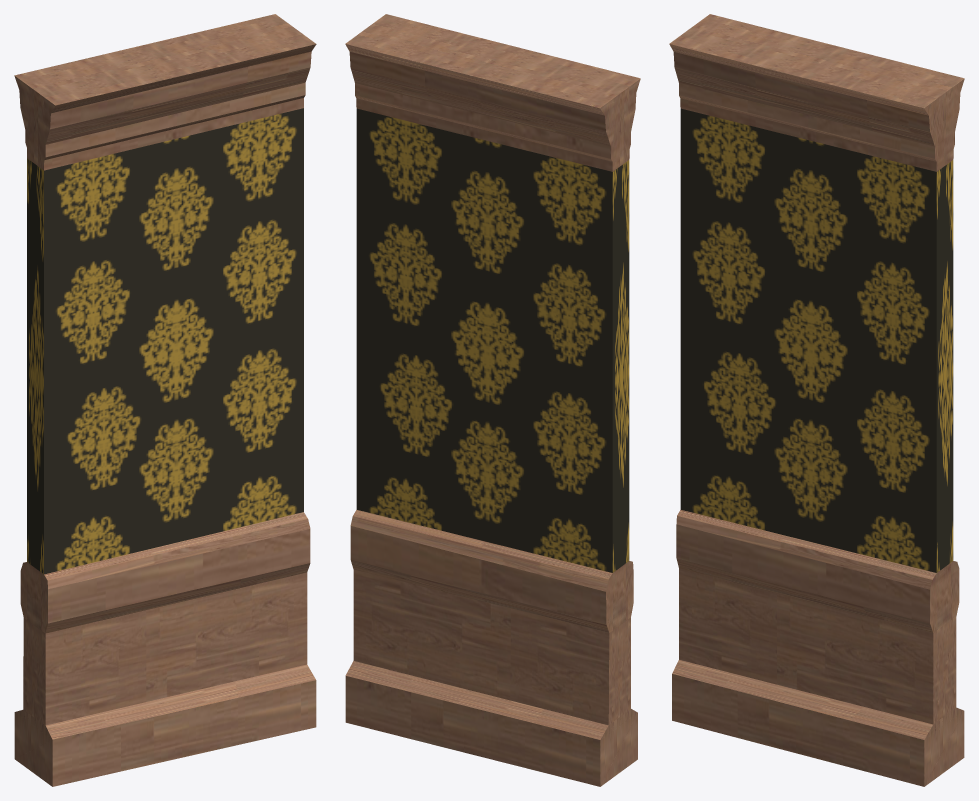
Rendered from Wall_TB.fbx.
3 renders of one model, left to right at view 1: azimuth 30°, elevation 25°; view 2: azimuth 150°, elevation 25°; view 3: azimuth 330°, elevation 25°, orthographic.
Parts seen in each view (by area): view 1: MWall_Small_TB; view 2: MWall_Small_TB; view 3: MWall_Small_TB.
Boxes of the visible parts, x1,y1,x2,y2 form: MWall_Small_TB: (14, 14, 316, 786); MWall_Small_TB: (345, 14, 640, 786); MWall_Small_TB: (669, 14, 964, 786).
Size of the model in its own units: 406 by 118 by 1024.
